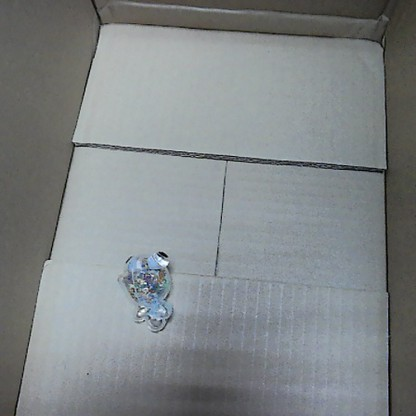whitefish: (115, 246, 176, 334)
